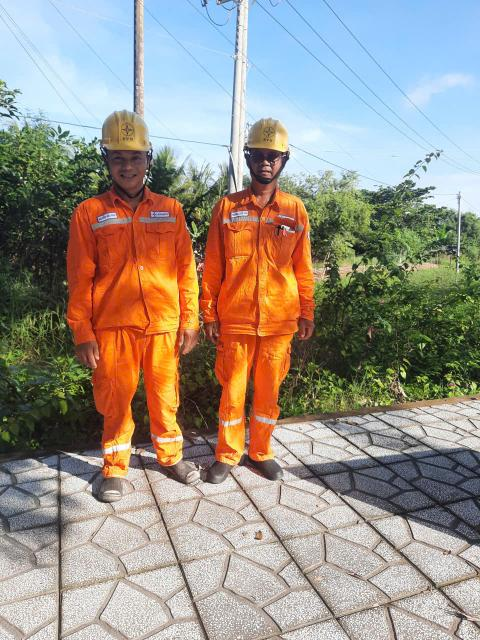helmet: (98, 101, 160, 162), (243, 111, 295, 162)
shoes: (83, 455, 137, 512), (247, 447, 293, 486), (200, 446, 235, 489), (161, 451, 201, 483)
